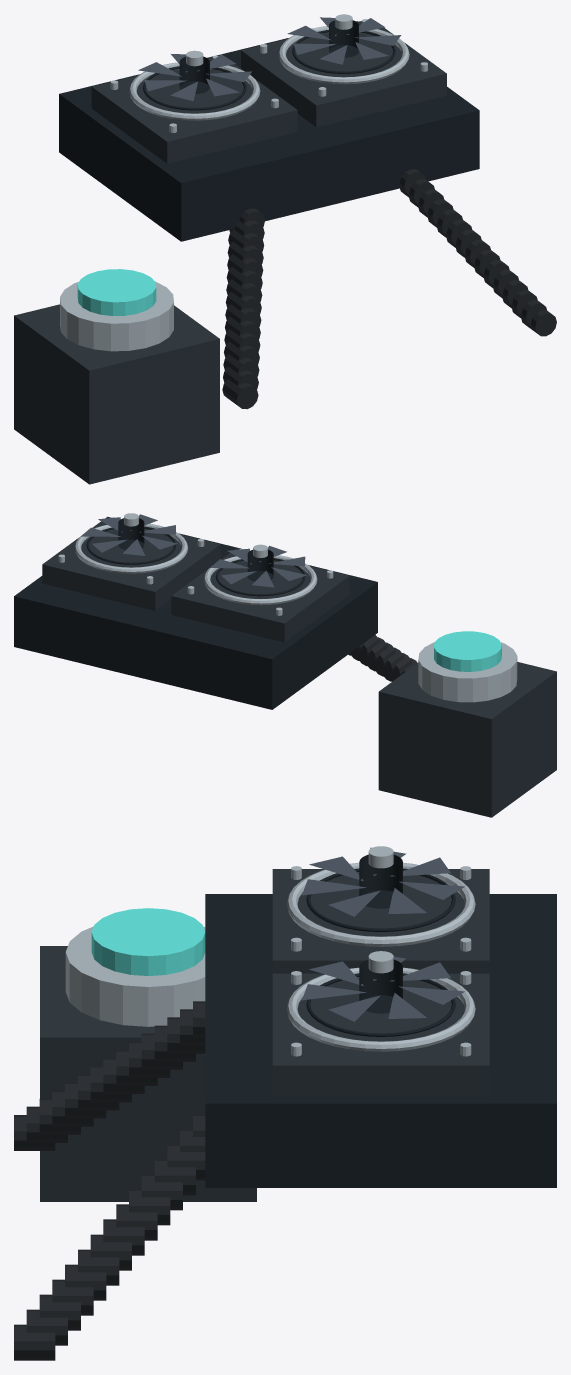
Rendered from aio-240.glb.
The picture shows the model from 3 angles, top to bottom: view 1: azimuth 30°, elevation 25°; view 2: azimuth 150°, elevation 25°; view 3: azimuth 270°, elevation 25°; orthographic projection. The views are drawn at different scales.
Parts seen in each view (by area): view 1: aio-240; view 2: aio-240; view 3: aio-240.
Part boxes in pixels (<box>): aio-240: <box>14,14,556,484</box>; aio-240: <box>14,513,556,817</box>; aio-240: <box>14,846,556,1360</box>.
Bounding box in the file's own units: 1.47 × 0.8875 × 1.05.
